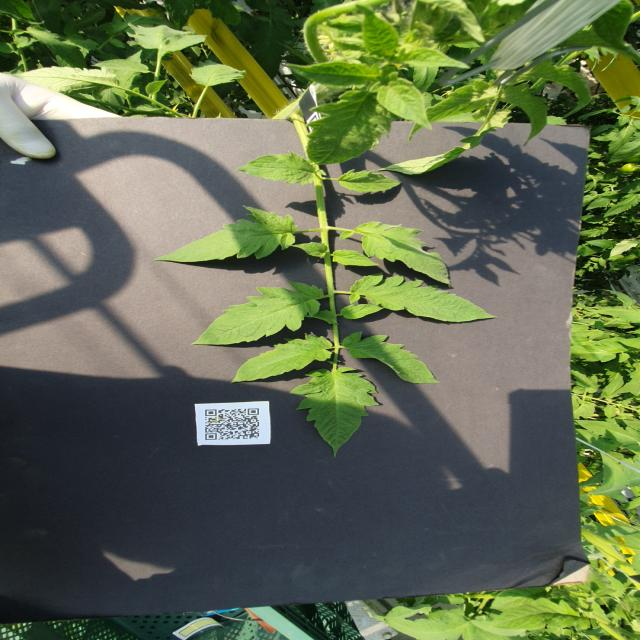Healthy Leaf: (281, 56, 437, 167), (191, 282, 326, 349), (150, 206, 301, 265), (295, 368, 381, 458), (349, 275, 498, 325), (357, 221, 457, 291), (409, 80, 500, 143), (341, 331, 443, 386), (233, 334, 336, 387), (491, 597, 592, 633), (236, 150, 323, 187), (502, 83, 550, 148), (353, 4, 401, 63), (126, 23, 209, 55), (574, 418, 640, 453), (396, 46, 473, 72), (190, 62, 248, 89), (340, 170, 405, 194), (573, 342, 632, 365), (608, 133, 640, 165), (602, 193, 640, 219), (608, 125, 638, 156), (585, 192, 621, 212), (586, 239, 619, 251), (581, 227, 610, 239)
